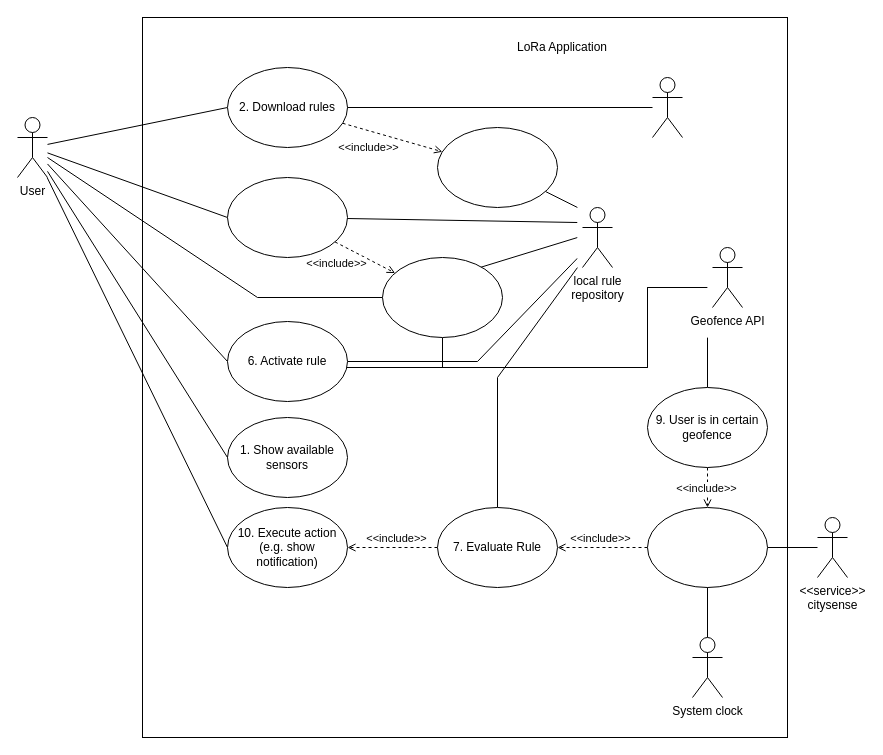
This 883x755 diagram has some shape labels left out. The centre of each missing label's shape, as x and y in pixels:
3. Save rule on device: (497,167)
4. Delete all local rules: (287,217)
5. Deactivate rule: (442,297)
8. Retrieve sensor data: (707,547)
global rule repository: (667,107)
